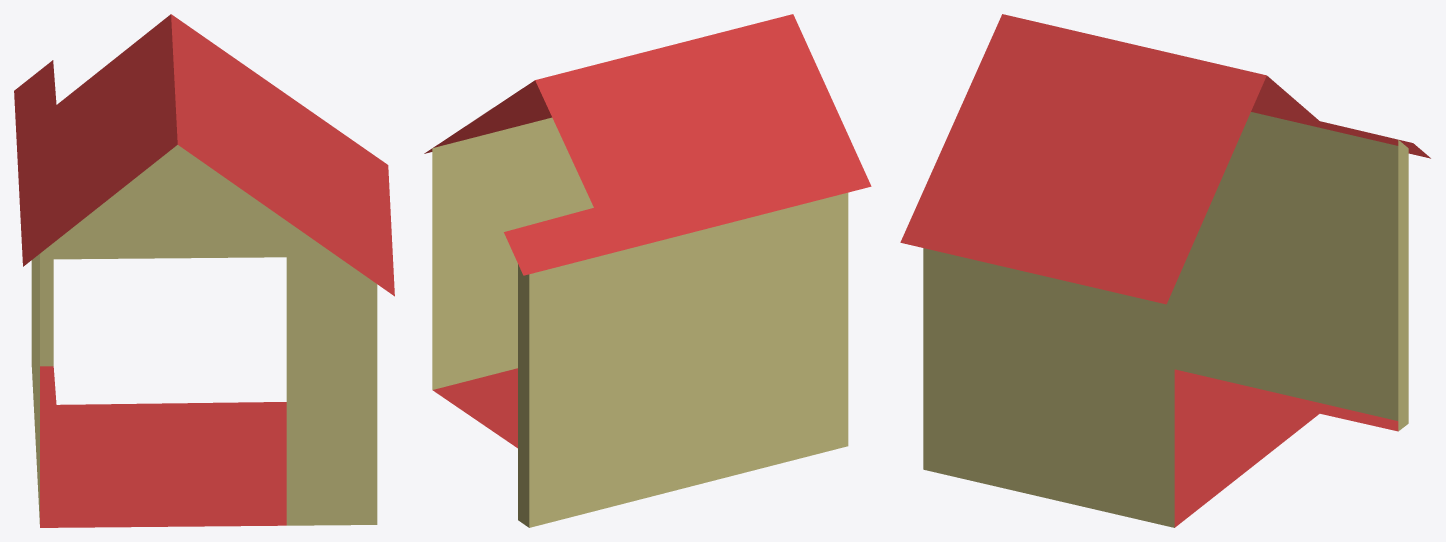
3 views of the same model, side by side, from view 1: azimuth 30°, elevation 25°; view 2: azimuth 150°, elevation 25°; view 3: azimuth 270°, elevation 25° (orthographic). The views are drawn at different scales.
Size of the model in its own units: 13.7 by 15.68 by 12.37.
